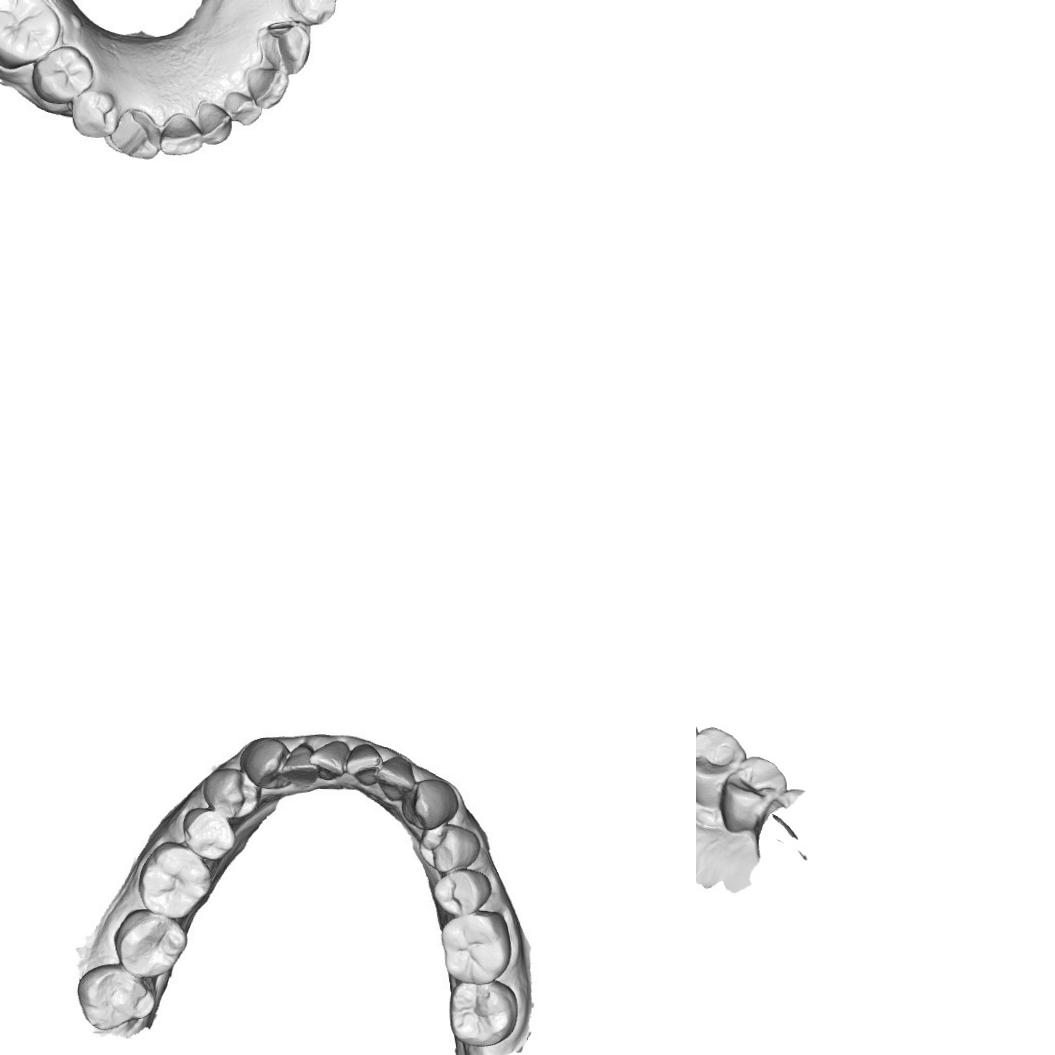canine: (400, 778, 458, 832), (240, 734, 291, 794), (267, 23, 307, 68)
crown: (110, 110, 162, 160)
incisor: (160, 114, 202, 156), (198, 95, 232, 145), (376, 754, 416, 796), (313, 737, 352, 780), (248, 68, 290, 105), (282, 744, 318, 785), (229, 90, 262, 122), (350, 745, 381, 779)
molar: (74, 960, 160, 1034), (138, 840, 211, 924), (114, 906, 188, 981), (440, 912, 514, 985), (446, 979, 518, 1047), (0, 0, 54, 62)
premolar: (719, 754, 788, 834), (696, 725, 747, 809), (416, 820, 482, 876), (179, 804, 238, 866), (202, 766, 262, 822), (430, 866, 494, 917), (40, 48, 94, 98), (75, 91, 121, 136), (291, 0, 337, 27)
